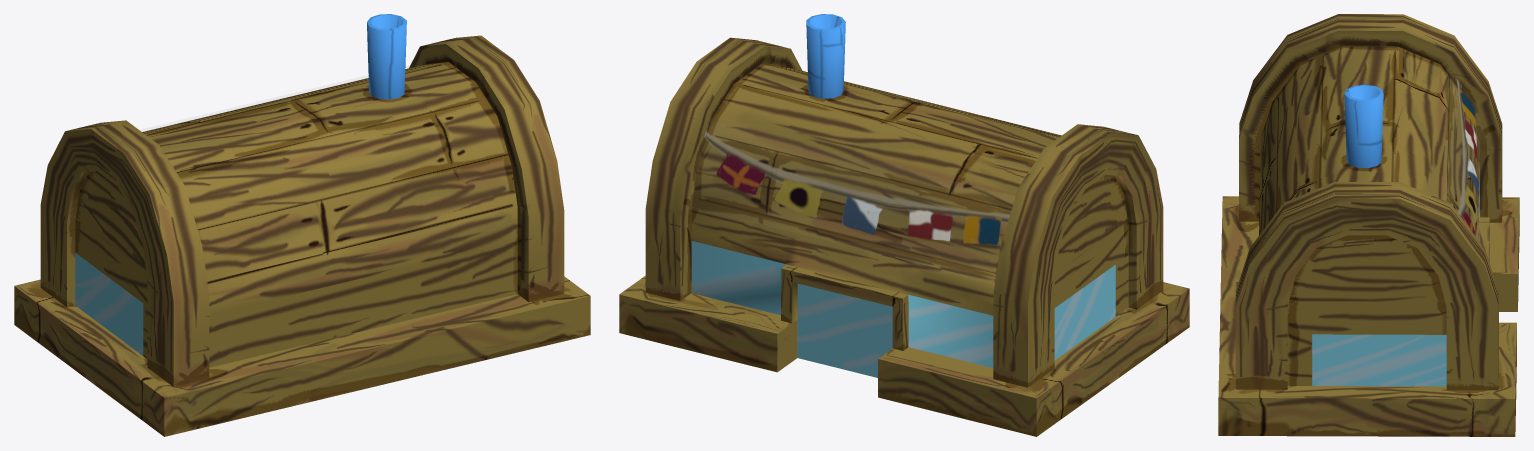
Rendered from krustykrab.glb.
3 views of the same model, side by side, from view 1: azimuth 30°, elevation 25°; view 2: azimuth 150°, elevation 25°; view 3: azimuth 270°, elevation 25° (orthographic). The views are drawn at different scales.
Parts seen in each view (by area): view 1: Wood, Wood.001; view 2: Wood, Wood.001, blinn6; view 3: Wood, Wood.001, blinn6.
Part boxes in pixels (x1,y1,x2,y2): Wood: (14, 14, 590, 436); Wood.001: (40, 35, 564, 386); Wood: (619, 14, 1189, 436); Wood.001: (645, 37, 1163, 387); blinn6: (704, 130, 1009, 244); Wood: (1218, 46, 1519, 436); Wood.001: (1235, 14, 1502, 390); blinn6: (1456, 78, 1479, 235).
Bounding box in the file's own units: 6.72 × 4.36 × 4.22.
Materials: 2 (2 with a texture image).
